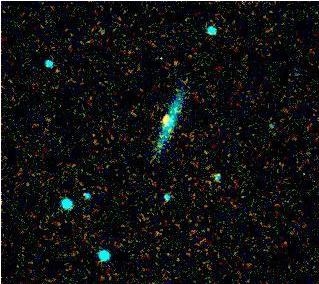star: (151, 104, 181, 134)
